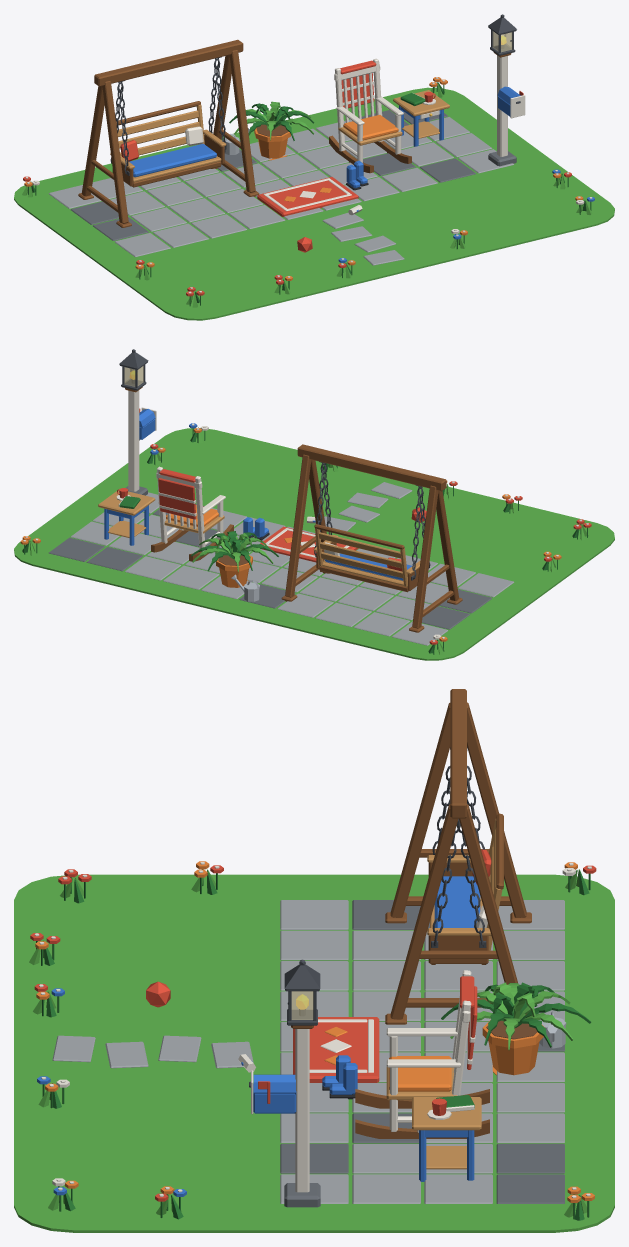
The model's file is cozy-front-porch-set.glb.
The picture shows the model from 3 angles, top to bottom: view 1: azimuth 30°, elevation 25°; view 2: azimuth 150°, elevation 25°; view 3: azimuth 270°, elevation 25°; orthographic projection. The views are drawn at different scales.
Visible parts, largest first — view 1: PorchYard_Body, PorchYard_Stone, PorchSwing_Frame, PorchYard_StoneDark, RockingChair_Cream, SwingSeat, WelcomeMat_Body, SwingSeat_WoodDark, SwingSeat_PaintBlue, SwingSeat_Iron, SideTable_Wood, PorchLight_Body (+12 smaller); view 2: PorchYard_Body, PorchYard_Stone, PorchSwing_Frame, PorchYard_StoneDark, SwingSeat, RockingChair_Cream, RockingChair_PaintRed, SwingSeat_WoodDark, PorchLight_Body, SwingSeat_Iron, SideTable_Wood, PottedFern_FoliageDark (+11 smaller); view 3: PorchYard_Body, PorchYard_Stone, PorchSwing_Frame, PorchYard_StoneDark, RockingChair_Cream, WelcomeMat_Body, SideTable_Wood, PorchLight_Body, PorchYard_FoliageDark, SwingSeat_WoodDark, PottedFern_FoliageDark, SwingSeat_PaintBlue (+16 smaller).
Boxes of the visible parts, <box> form: PorchYard_Body: <box>14,83,614,320</box>; PorchYard_Stone: <box>48,117,513,265</box>; PorchSwing_Frame: <box>78,39,259,227</box>; PorchYard_StoneDark: <box>71,107,475,240</box>; RockingChair_Cream: <box>334,58,403,162</box>; SwingSeat: <box>110,104,226,182</box>; WelcomeMat_Body: <box>257,177,358,216</box>; SwingSeat_WoodDark: <box>112,101,224,187</box>; SwingSeat_PaintBlue: <box>129,143,216,177</box>; SwingSeat_Iron: <box>110,58,226,175</box>; SideTable_Wood: <box>393,90,449,138</box>; PorchLight_Body: <box>497,55,507,156</box>; PorchYard_Body: <box>14,427,614,660</box>; PorchYard_Stone: <box>71,482,514,645</box>; PorchSwing_Frame: <box>281,444,462,632</box>; PorchYard_StoneDark: <box>49,504,491,629</box>; SwingSeat: <box>313,528,420,586</box>; RockingChair_Cream: <box>156,466,225,551</box>; RockingChair_PaintRed: <box>158,469,196,519</box>; SwingSeat_WoodDark: <box>314,524,427,592</box>; PorchLight_Body: <box>128,390,139,491</box>; SwingSeat_Iron: <box>314,463,430,580</box>; SideTable_Wood: <box>98,490,155,537</box>; PottedFern_FoliageDark: <box>191,531,278,571</box>; PorchYard_Body: <box>14,869,614,1232</box>; PorchYard_Stone: <box>52,900,564,1203</box>; PorchSwing_Frame: <box>385,689,531,1024</box>; PorchYard_StoneDark: <box>280,900,564,1203</box>; RockingChair_Cream: <box>386,970,475,1131</box>; WelcomeMat_Body: <box>293,1017,379,1082</box>; SideTable_Wood: <box>412,1097,481,1169</box>; PorchLight_Body: <box>295,1029,309,1192</box>; PorchYard_FoliageDark: <box>36,869,590,1220</box>; SwingSeat_WoodDark: <box>428,813,503,964</box>; PottedFern_FoliageDark: <box>441,982,591,1047</box>; SwingSeat_PaintBlue: <box>434,876,480,927</box>.
Size of the model in its own units: 35 by 11.15 by 25.
